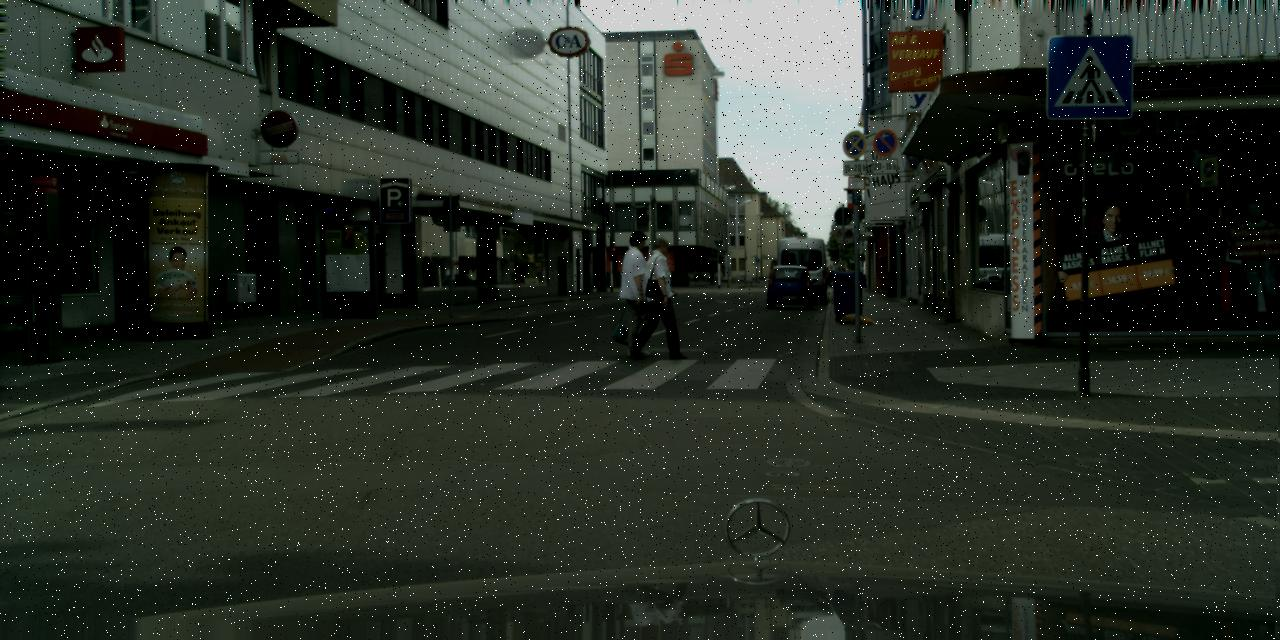ped: (613, 230, 663, 354), (634, 237, 684, 357)
